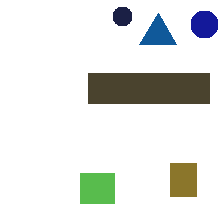circle: (191, 11, 217, 37), (113, 7, 131, 25)
rectangle: (88, 73, 209, 103), (80, 173, 114, 203), (170, 163, 196, 196)
triangle: (139, 13, 176, 44)
